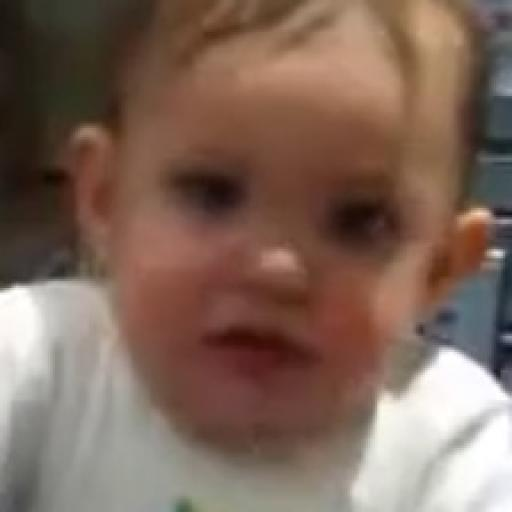Autism: (97, 33, 512, 440)
